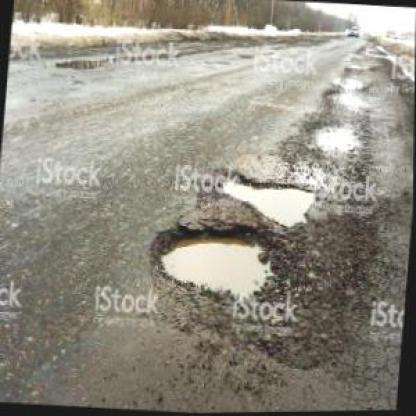pothole: (142, 212, 298, 315), (212, 166, 322, 231), (310, 121, 360, 158), (323, 86, 365, 110), (331, 74, 366, 90)
